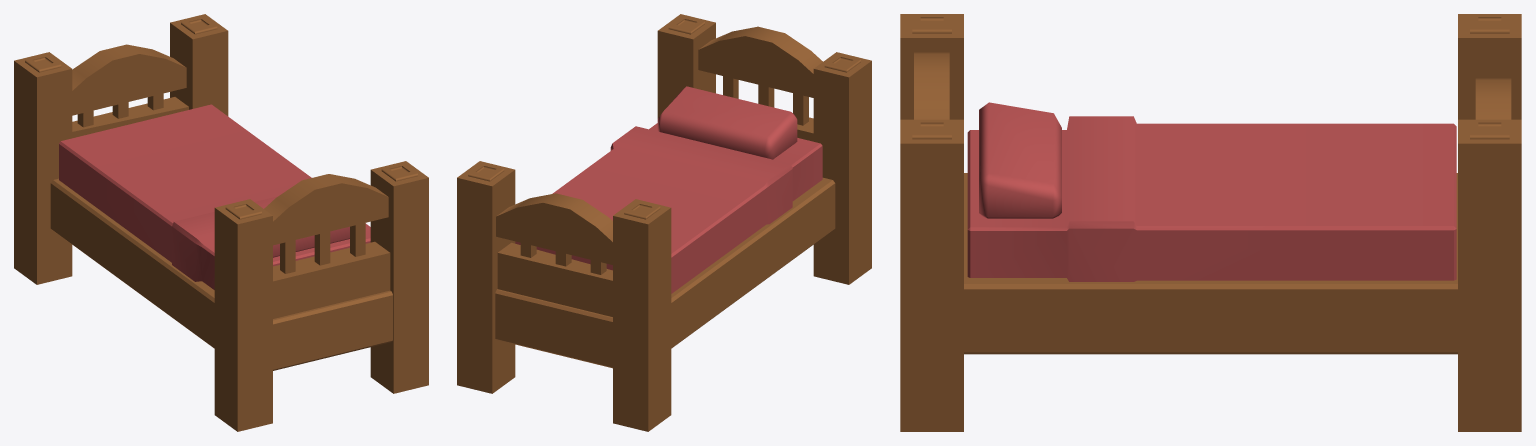
Rendered from bedroom_bed.fbx.
3 renders of one model, left to right at view 1: azimuth 30°, elevation 25°; view 2: azimuth 150°, elevation 25°; view 3: azimuth 270°, elevation 25°, orthographic. The views are drawn at different scales.
Visible parts, largest first — view 1: bed_part7, bed_part3, bed_part5, bed_part22, bed_part21, bed_part13, bed_part26, bed_part23, bed_part6, bed_part30, bed_part25, bed_part24; view 2: bed_part3, bed_part7, bed_part22, bed_part5, bed_part23, bed_part6, bed_part13, bed_part26, bed_part21, bed_part25; view 3: bed_part7, bed_part3, bed_part21, bed_part23, bed_part6, bed_part22, bed_part5, bed_part13, bed_part26.
Boxes of the visible parts, left/top/right/bottom form: bed_part7: left=59, top=104, right=370, bottom=289; bed_part3: left=50, top=97, right=392, bottom=370; bed_part5: left=214, top=199, right=272, bottom=431; bed_part22: left=14, top=52, right=72, bottom=284; bed_part21: left=370, top=161, right=428, bottom=393; bed_part13: left=264, top=174, right=388, bottom=245; bed_part26: left=72, top=44, right=186, bottom=115; bed_part23: left=170, top=14, right=228, bottom=116; bed_part6: left=273, top=226, right=349, bottom=257; bed_part30: left=314, top=231, right=330, bottom=265; bed_part25: left=280, top=240, right=295, bottom=273; bed_part24: left=350, top=223, right=365, bottom=256; bed_part3: left=495, top=117, right=835, bottom=368; bed_part7: left=515, top=123, right=822, bottom=293; bed_part22: left=613, top=199, right=671, bottom=431; bed_part5: left=813, top=52, right=871, bottom=284; bed_part23: left=457, top=161, right=515, bottom=393; bed_part6: left=657, top=86, right=797, bottom=159; bed_part13: left=698, top=26, right=822, bottom=97; bed_part26: left=496, top=193, right=612, bottom=264; bed_part21: left=657, top=14, right=715, bottom=118; bed_part25: left=793, top=93, right=808, bottom=125; bed_part7: left=967, top=116, right=1456, bottom=281; bed_part3: left=964, top=173, right=1457, bottom=354; bed_part21: left=900, top=119, right=963, bottom=431; bed_part23: left=1458, top=119, right=1521, bottom=431; bed_part6: left=979, top=102, right=1061, bottom=218; bed_part22: left=1458, top=14, right=1521, bottom=119; bed_part5: left=900, top=14, right=963, bottom=119; bed_part13: left=914, top=52, right=949, bottom=119; bed_part26: left=1475, top=78, right=1511, bottom=119.
Size of the model in its own units: 40.8 by 44.55 by 82.63.
